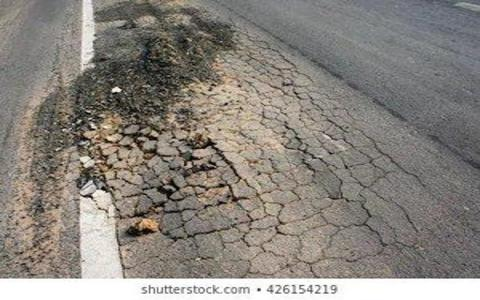patchy roads: (92, 41, 347, 251)
